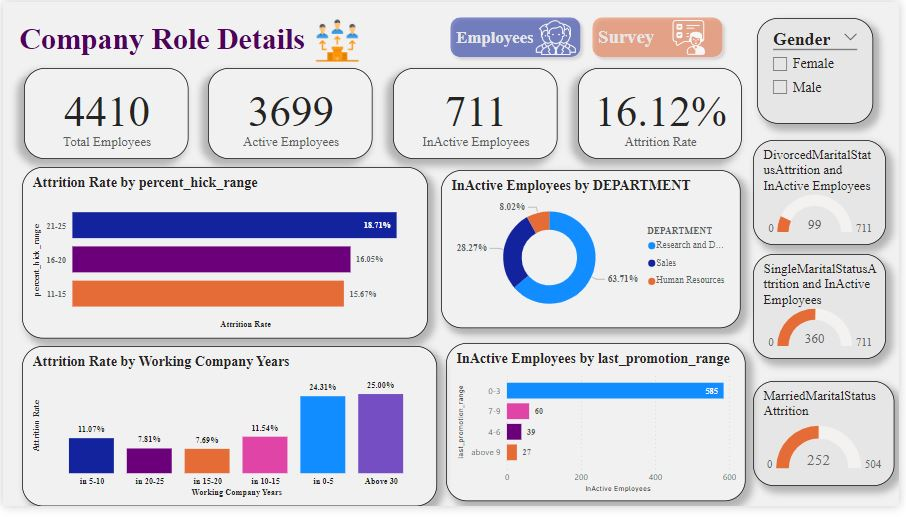

The page's visual inventory and layout, read from the dashboard file:
{"tool":"powerbi","page":{"name":"Company_Contribution","canvas":[1280,720],"ordinal":2},"visuals":[{"type":"textbox","box":[18.5,23.5,517.4,63.8],"z":0},{"type":"card","fields":{"Values":["MY_Measures.Attrition Rate"]},"box":[822,94.5,233.9,130.4],"z":1000},{"type":"card","fields":{"Values":["MY_Measures.Active Employees"]},"box":[293.4,94.5,235.3,130.4],"z":2000},{"type":"card","fields":{"Values":["MY_Measures.InActive Employees"]},"box":[557,94.5,235.3,130.4],"z":3000},{"type":"card","fields":{"Values":["MY_Measures.Total Employees"]},"box":[29.8,94.5,235.3,130.4],"z":4000},{"type":"slicer","fields":{"Values":["EMPLOYEES_Dim.GENDER"]},"box":[1076.7,23.5,166.3,151.2],"z":5000},{"type":"gauge","fields":{"Y":["MY_Measures.MarriedMaritalStatusAttrition"]},"box":[1071.9,540.9,201.6,149.5],"z":6000},{"type":"gauge","fields":{"Y":["MY_Measures.DivorcedMaritalStatusAttrition"],"MaxValue":["MY_Measures.InActive Employees"]},"box":[1071.9,196.5,189.8,149.5],"z":7000},{"type":"gauge","fields":{"MaxValue":["MY_Measures.InActive Employees"],"Y":["MY_Measures.SingleMaritalStatusAttrition"]},"box":[1071.9,359.5,189.8,149.5],"z":8000},{"type":"columnChart","fields":{"Y":["MY_Measures.Attrition Rate"],"Category":["Fact.percent_hick_range"]},"box":[653.4,235.3,395.4,484.7],"z":9000},{"type":"donutChart","fields":{"Y":["MY_Measures.InActive Employees"],"Category":["Fact.last_promotion_range"]},"box":[35.4,246.6,568.3,225.4],"z":10000},{"type":"lineChart","fields":{"Y":["MY_Measures.Attrition Rate"],"Category":["Fact.Working Company Years"]},"box":[36.9,480.5,592.4,239.5],"z":12000},{"type":"actionButton","box":[629.3,12.8,204.1,75.1],"z":13000},{"type":"image","box":[752.6,12.8,73.7,75.1],"z":15000},{"type":"actionButton","box":[833.4,12.8,204.1,75.1],"z":15001},{"type":"image","box":[946.8,19.8,65.2,60.9],"z":15002},{"type":"image","box":[436.5,17,80.8,75.1],"z":15003}]}

Visuals, with their boxes in screenshot pixels (x1, y1, x2, y2), scaled from the page's 1280x720 canvas onto the 906x517 screenshot:
textbox: BBox(13, 17, 379, 63)
card - MY_Measures.Attrition Rate: BBox(582, 68, 747, 161)
card - MY_Measures.Active Employees: BBox(208, 68, 374, 161)
card - MY_Measures.InActive Employees: BBox(394, 68, 561, 161)
card - MY_Measures.Total Employees: BBox(21, 68, 188, 161)
slicer - EMPLOYEES_Dim.GENDER: BBox(762, 17, 880, 125)
gauge - MY_Measures.MarriedMaritalStatusAttrition: BBox(759, 388, 901, 496)
gauge - MY_Measures.DivorcedMaritalStatusAttrition x MY_Measures.InActive Employees: BBox(759, 141, 893, 248)
gauge - MY_Measures.InActive Employees x MY_Measures.SingleMaritalStatusAttrition: BBox(759, 258, 893, 365)
columnChart - MY_Measures.Attrition Rate x Fact.percent_hick_range: BBox(462, 169, 742, 516)
donutChart - MY_Measures.InActive Employees x Fact.last_promotion_range: BBox(25, 177, 427, 339)
lineChart - MY_Measures.Attrition Rate x Fact.Working Company Years: BBox(26, 345, 445, 516)
actionButton: BBox(445, 9, 590, 63)
image: BBox(533, 9, 585, 63)
actionButton: BBox(590, 9, 734, 63)
image: BBox(670, 14, 716, 58)
image: BBox(309, 12, 366, 66)
